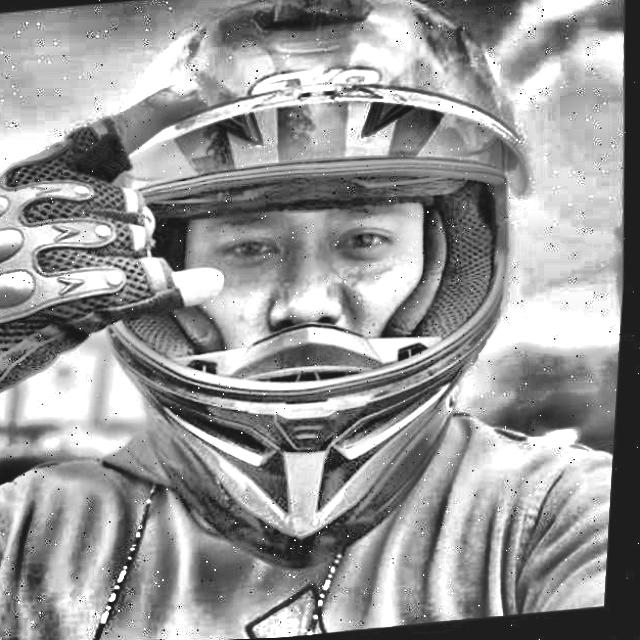Helmet: (58, 0, 575, 603)
